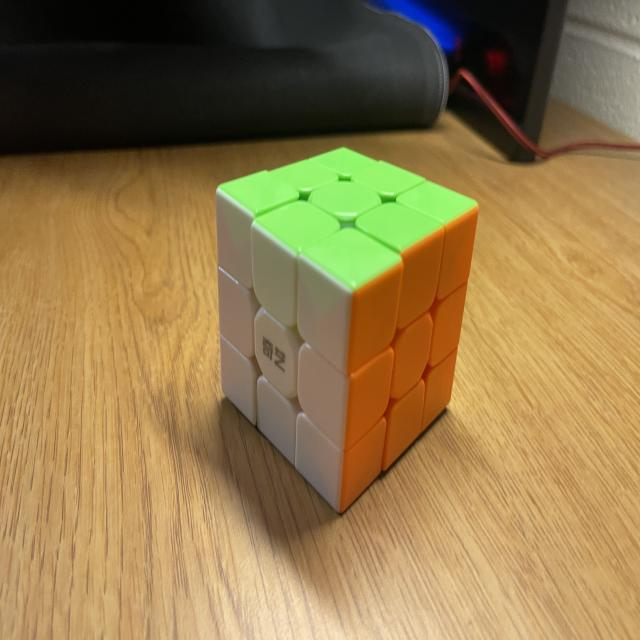Rubiks Cube: (216, 145, 478, 514)
